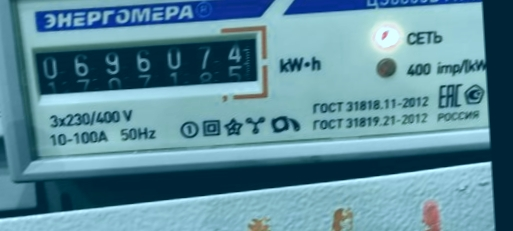0: (36, 53, 56, 79), (163, 43, 180, 70)
4: (223, 39, 241, 64)
5: (225, 63, 241, 82)
6: (69, 49, 89, 77), (131, 47, 149, 72)
7: (192, 42, 211, 69)
9: (99, 49, 119, 75)
screen: (17, 19, 273, 114)
